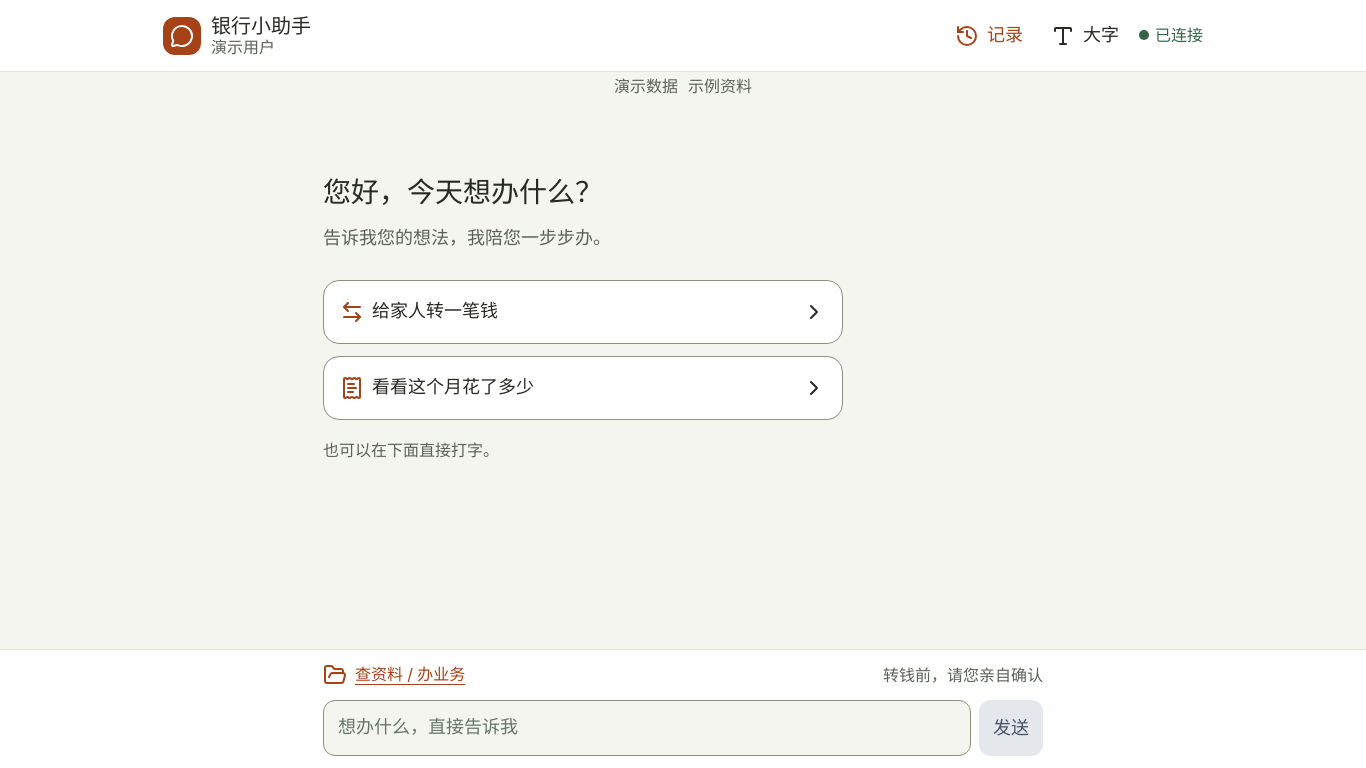
Test: keeps an unfinished task reachable through history and returns focus to it
Type "转账500元" into the text box named "输入您想办的事". click: [647, 728]
box: [323,700,971,756]
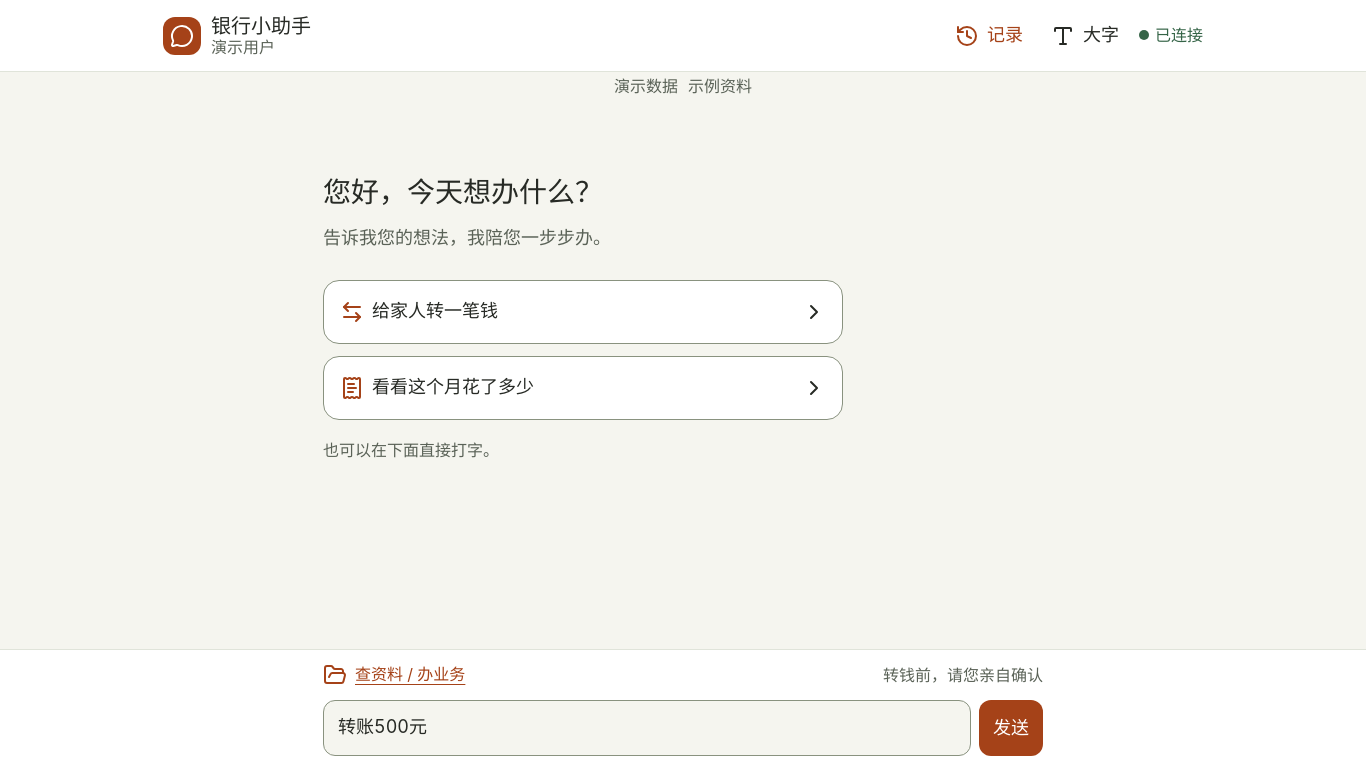
Click the button "发送". click: [1011, 728]
box: [979,700,1043,756]
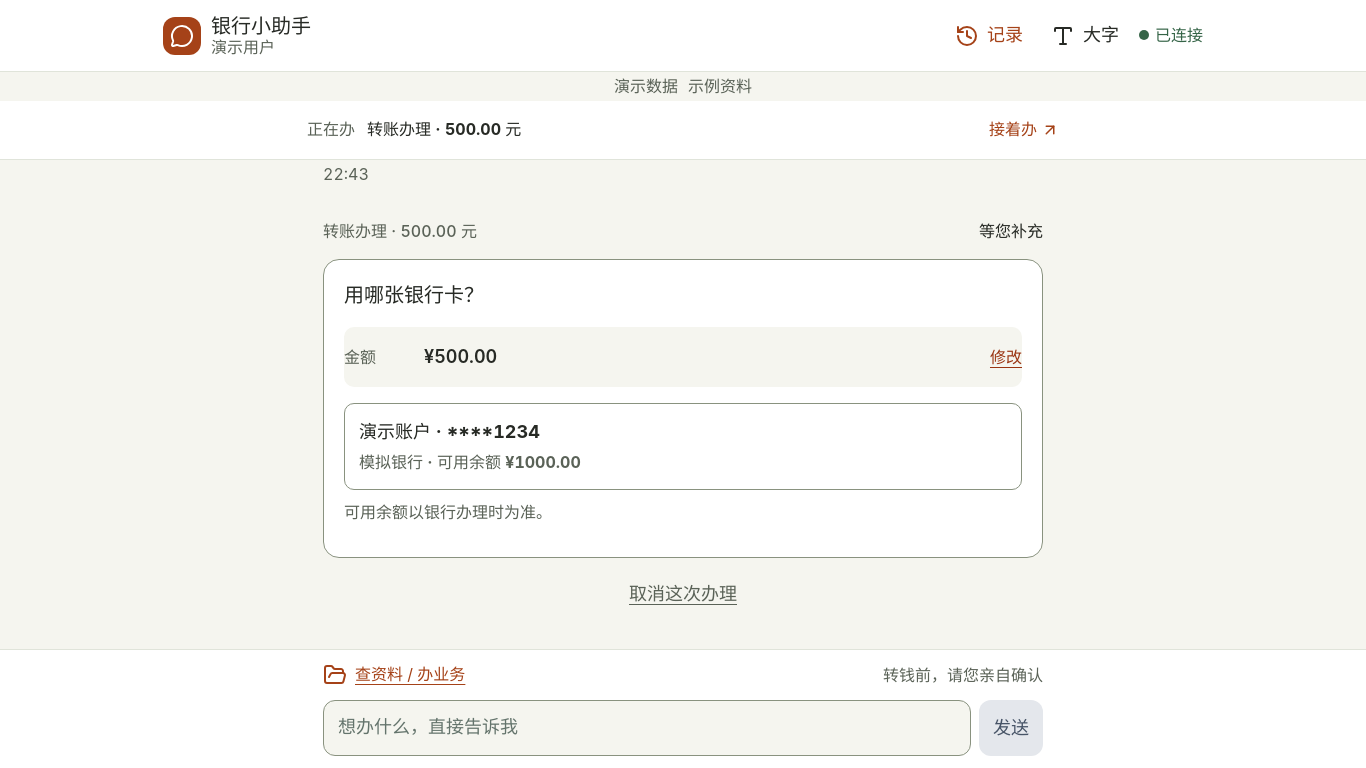
Result: the button "演示账户 · ****1234 模拟银行 · 可用余额 ¥1000.00" is shown at [344,403,1022,490]
Click the button "记录". click: [989, 36]
box: [947,12,1031,60]
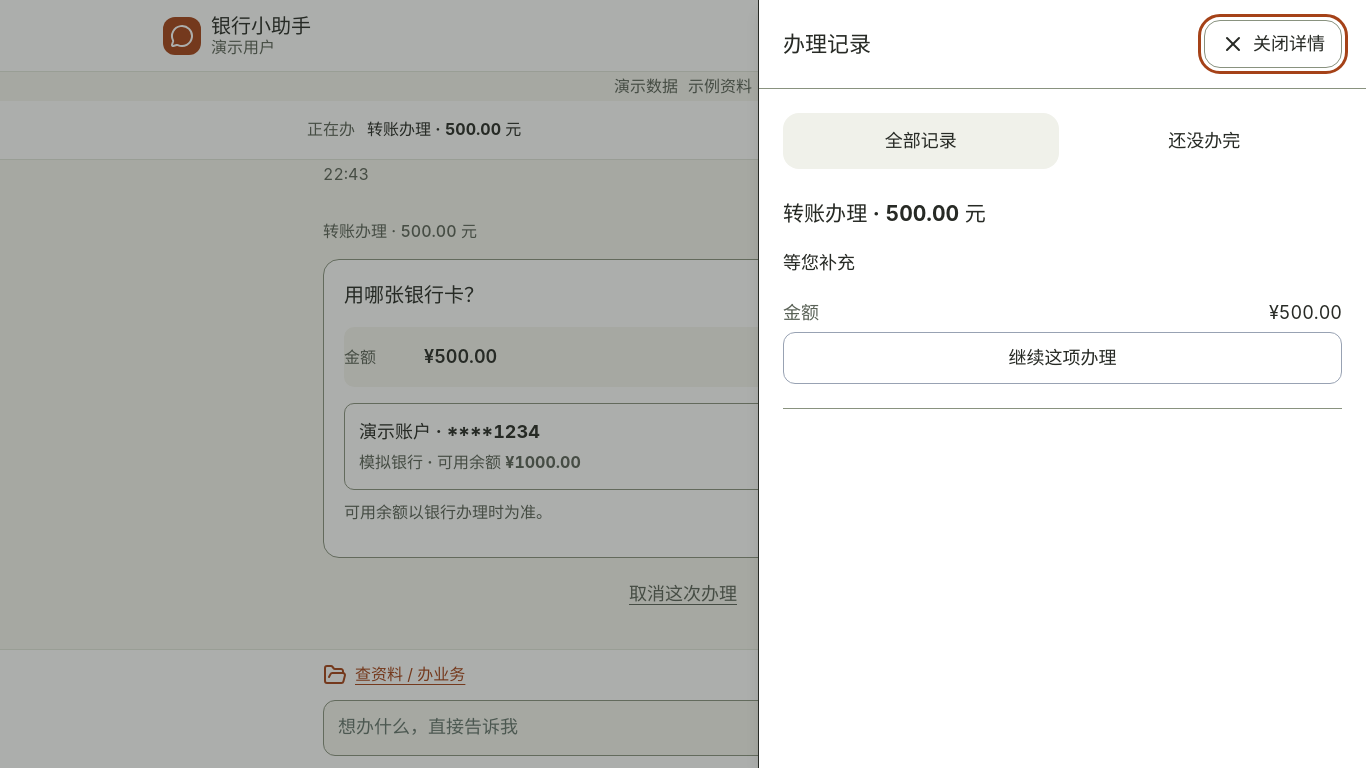
Click the button "继续这项办理". click: [1062, 358]
box: [783,332,1342,384]
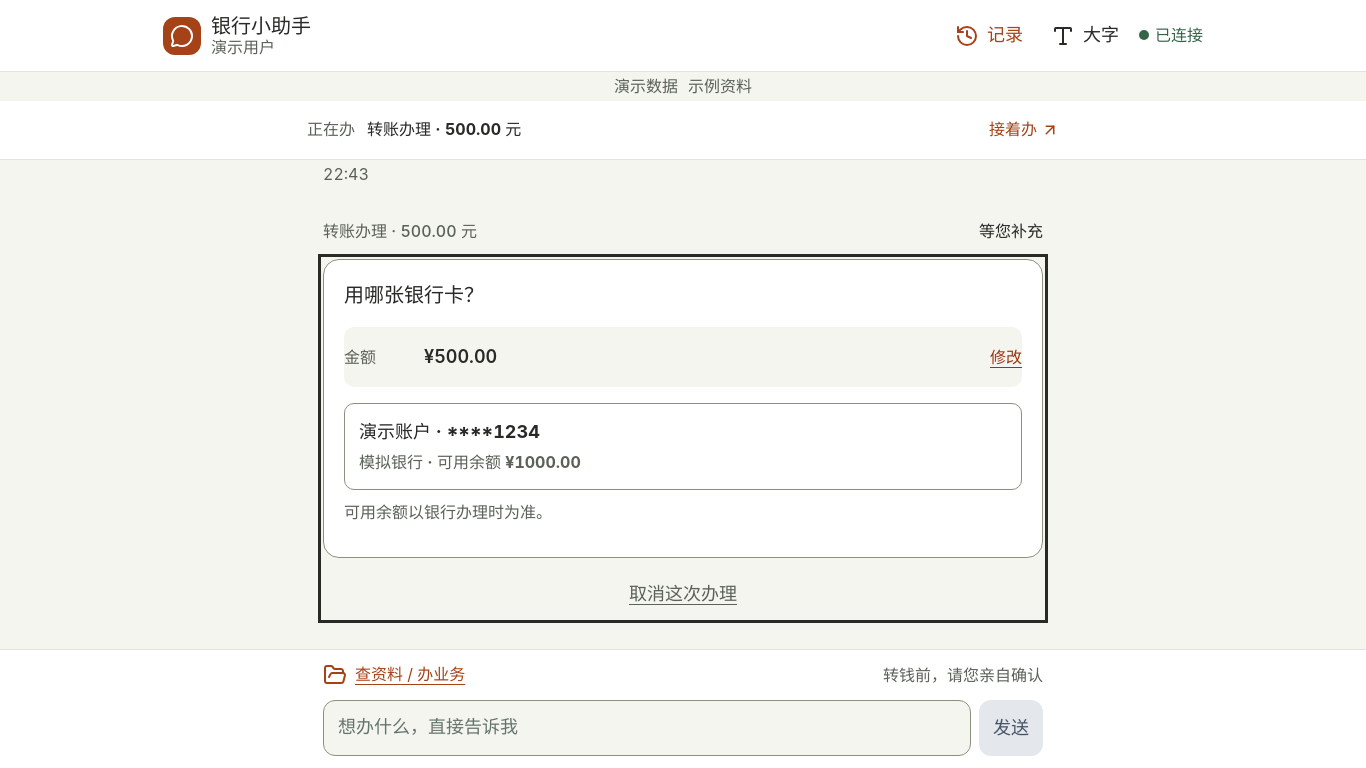
Result: the dialog is gone
